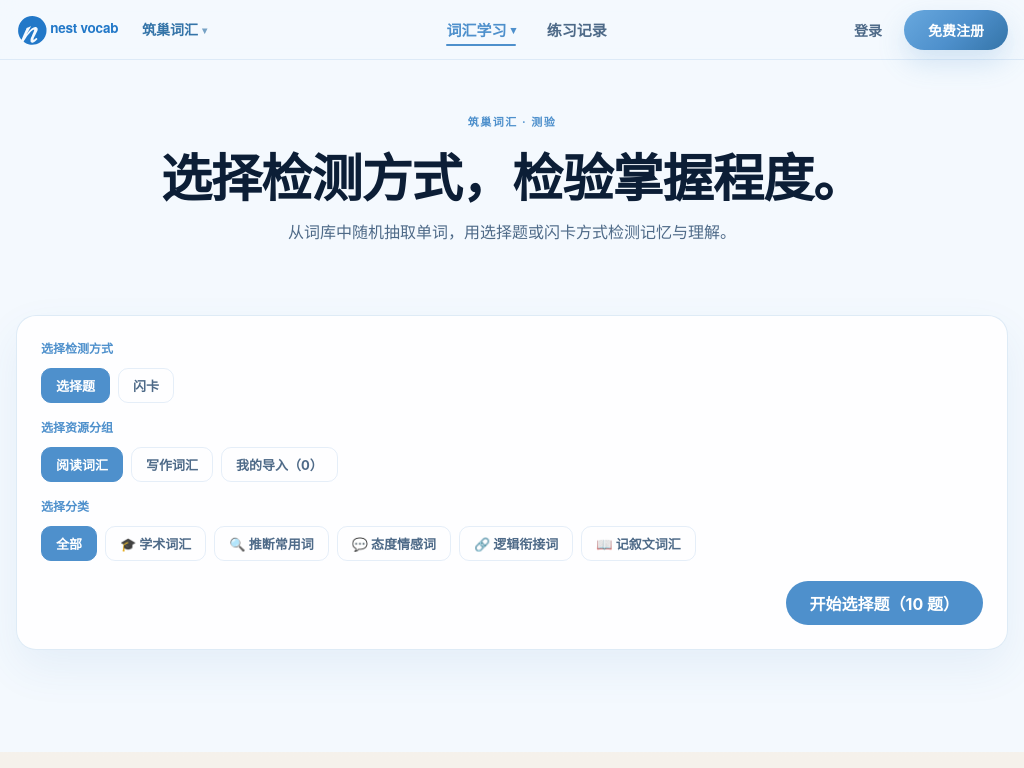
VocabQuizPage › starts flashcard mode from vocab quiz setup
Click the button "闪卡" at (146,385), box 118,368 -> 174,403
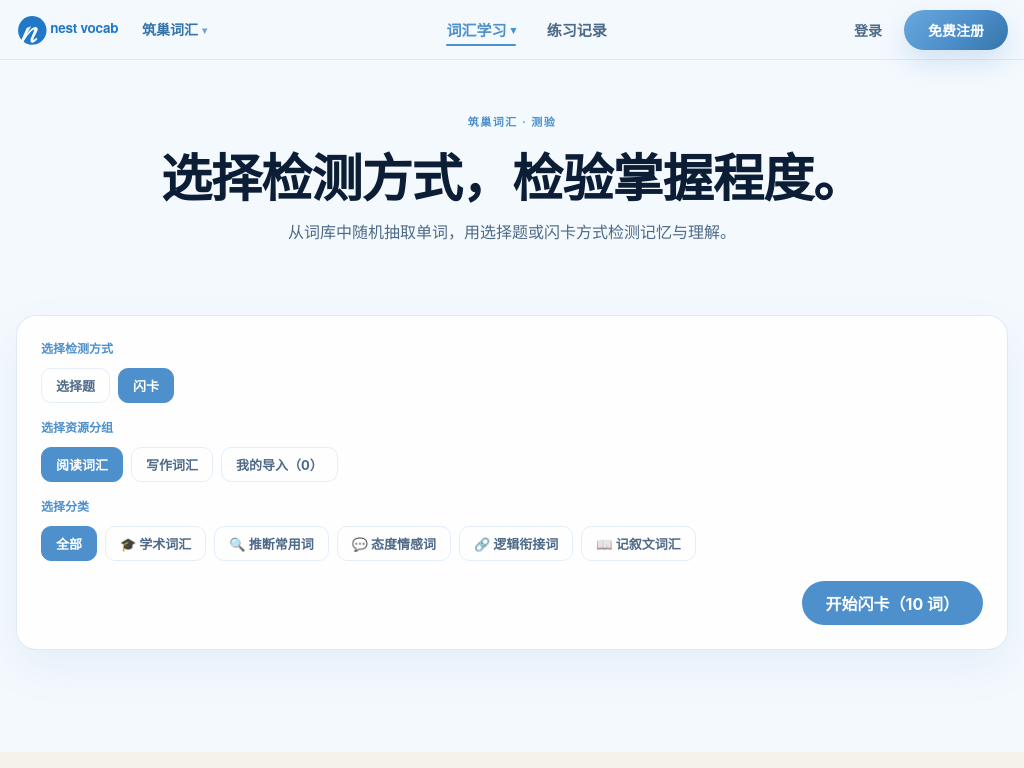
Click the button "开始闪卡（10 词）" at (892,603), box 802,581 -> 983,625
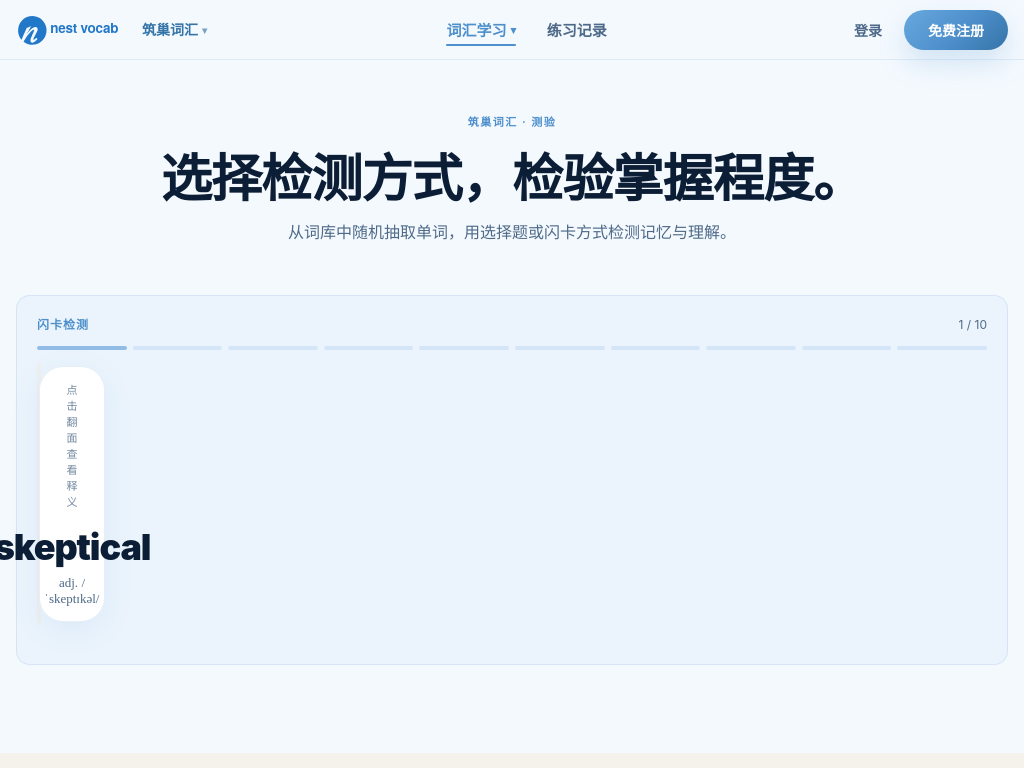
Result: the text "闪卡检测" is shown at 37,316 -> 89,334
Result: the text "点击翻面查看释义" is shown at 66,381 -> 78,509
